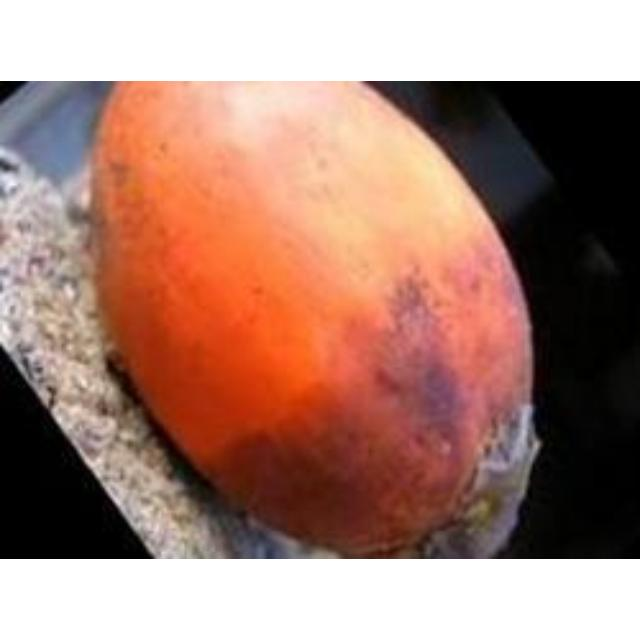good: (92, 81, 540, 557)
